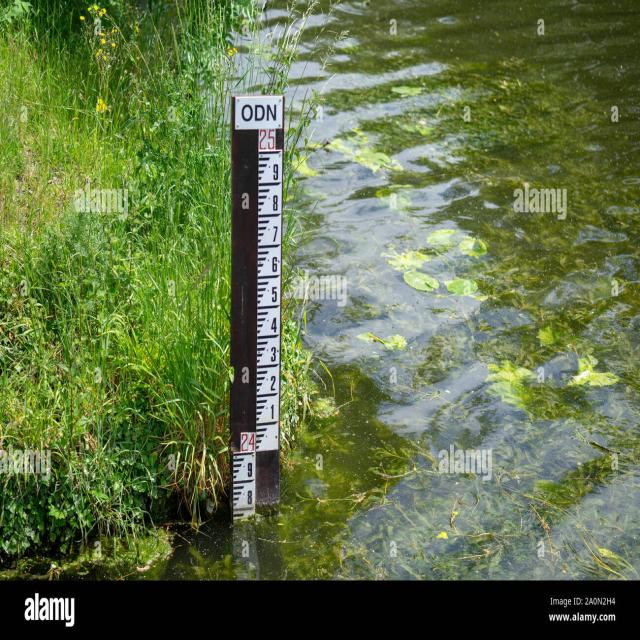ruler: (226, 90, 296, 526)
value: (259, 126, 279, 153), (238, 431, 256, 455), (269, 222, 283, 244), (270, 162, 284, 184), (269, 282, 282, 305), (270, 191, 283, 213), (268, 372, 281, 394), (268, 399, 280, 422), (270, 255, 282, 277), (269, 343, 281, 365), (269, 312, 281, 334), (244, 459, 256, 480), (244, 486, 256, 507)
